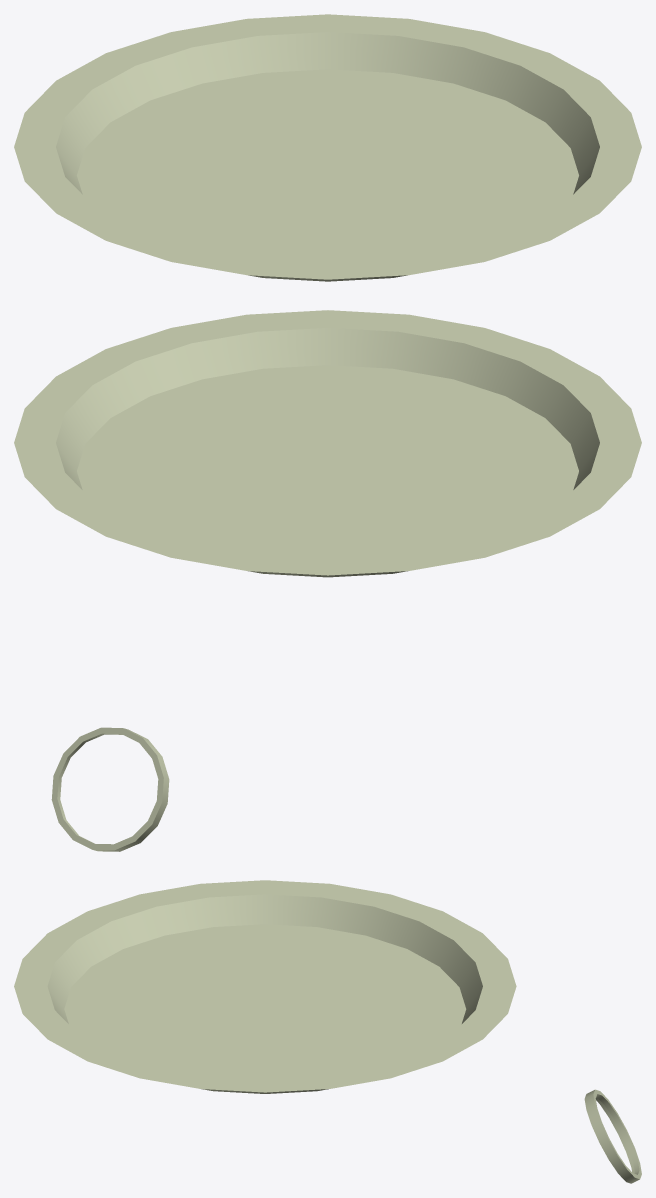
Rendered from Alnair_Crew_1_Interior_Mask.obj.
The picture shows the model from 3 angles, top to bottom: view 1: azimuth 30°, elevation 25°; view 2: azimuth 150°, elevation 25°; view 3: azimuth 270°, elevation 25°; orthographic projection. The views are drawn at different scales.
Parts seen in each view (by area): view 1: Alnair_Crew_1_Interior_Mask; view 2: Alnair_Crew_1_Interior_Mask; view 3: Alnair_Crew_1_Interior_Mask.
Part boxes in pixels (left/top/right/bottom): Alnair_Crew_1_Interior_Mask: left=14, top=14, right=641, bottom=281; Alnair_Crew_1_Interior_Mask: left=14, top=310, right=641, bottom=851; Alnair_Crew_1_Interior_Mask: left=14, top=880, right=641, bottom=1183.
Bounding box in the file's own units: 0.9375 × 0.3958 × 1.17.
